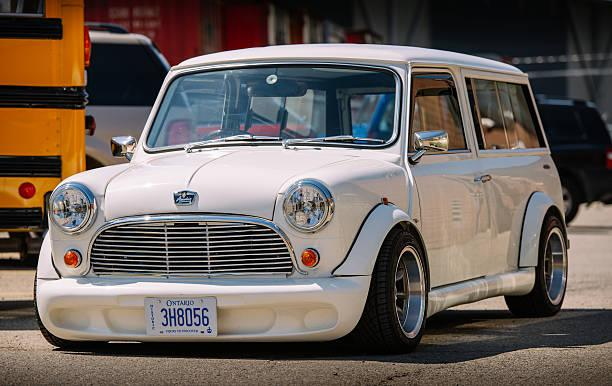licence: (142, 296, 220, 339)
